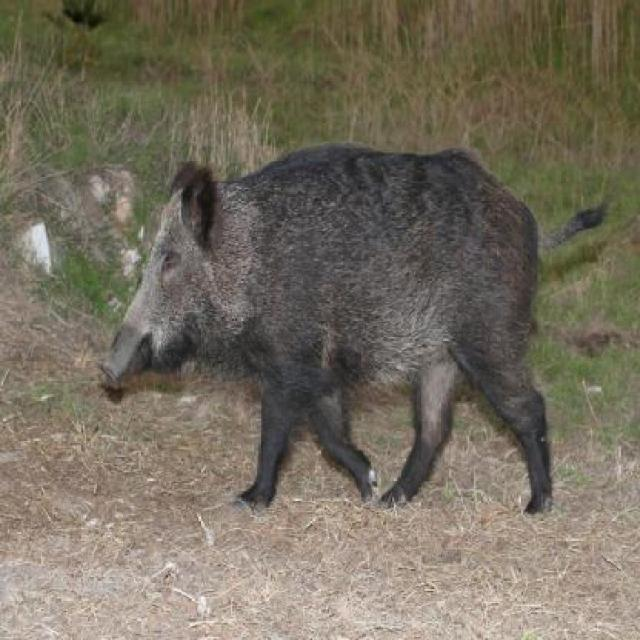wildboar: (92, 132, 619, 532)
